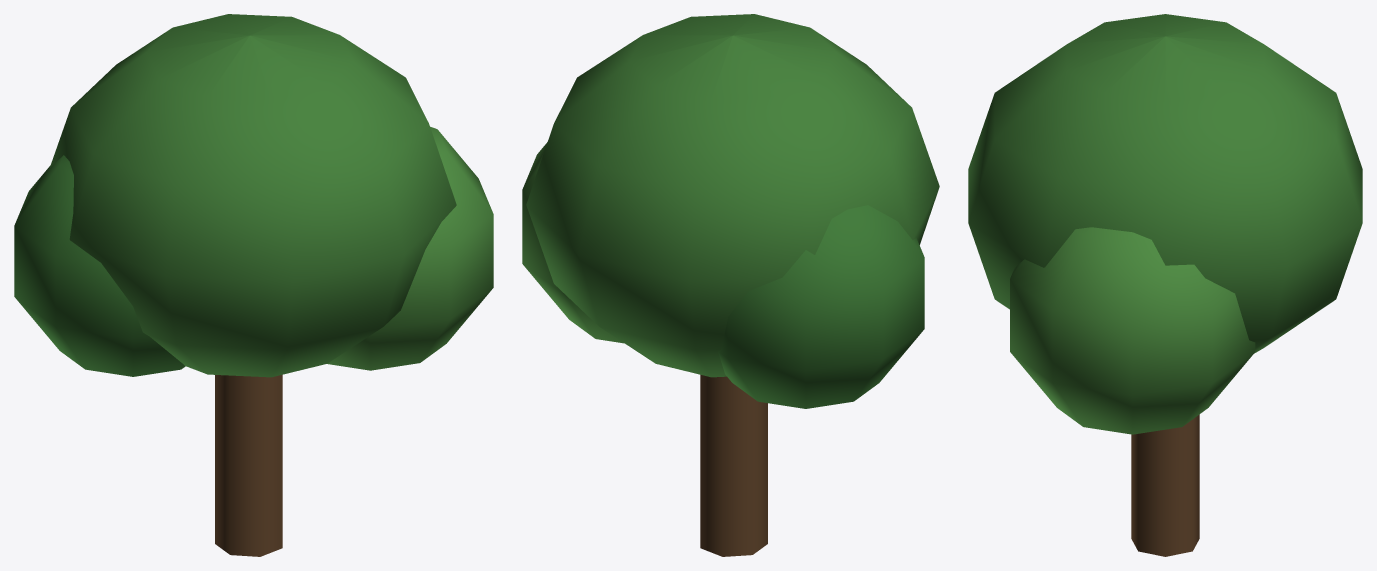
The model's file is oak.glb.
3 renders of one model, left to right at view 1: azimuth 30°, elevation 25°; view 2: azimuth 150°, elevation 25°; view 3: azimuth 270°, elevation 25°, orthographic.
Size of the model in its own units: 2.14 by 2.56 by 1.81.
